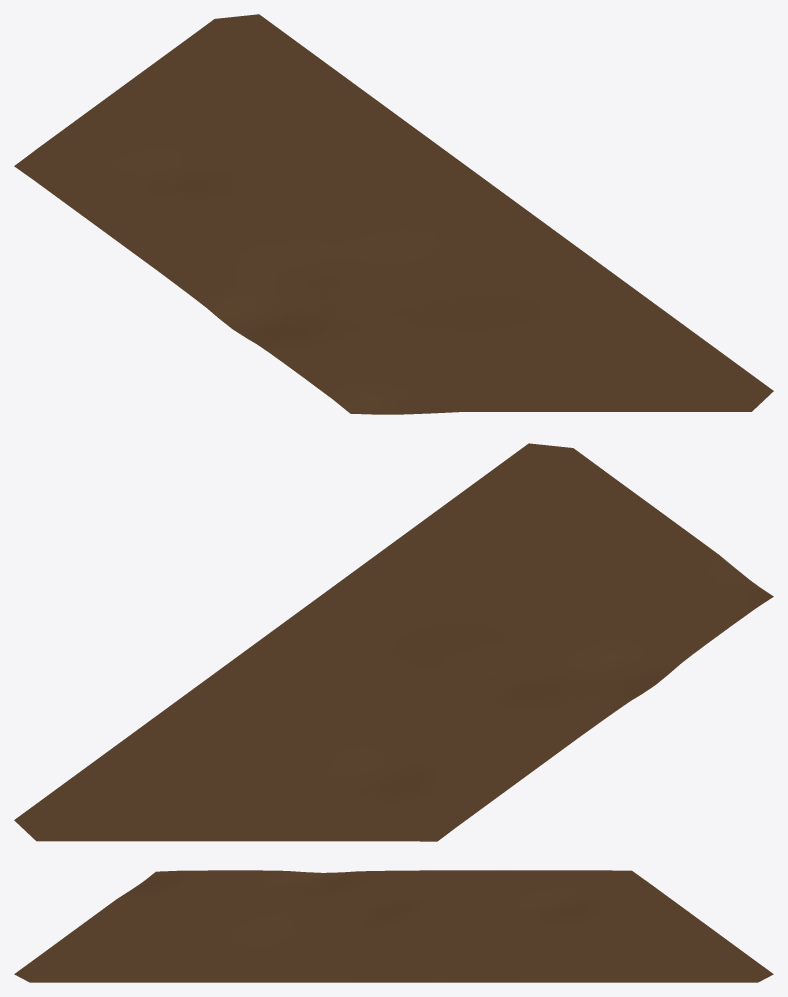
File: forest_forest_edge_e2.glb
3 renders of one model, top to bottom at view 1: azimuth 30°, elevation 25°; view 2: azimuth 150°, elevation 25°; view 3: azimuth 270°, elevation 25°, orthographic. The views are drawn at different scales.
Parts seen in each view (by area): view 1: forest_forest_edge_e2_lod0; view 2: forest_forest_edge_e2_lod0; view 3: forest_forest_edge_e2_lod0.
Part boxes in pixels (bbox=[...]): forest_forest_edge_e2_lod0: bbox=[14, 14, 773, 414]; forest_forest_edge_e2_lod0: bbox=[14, 443, 773, 841]; forest_forest_edge_e2_lod0: bbox=[14, 870, 773, 982].
Size of what is drawn, in the model's own units: 6 by 0.1406 by 16.69.
